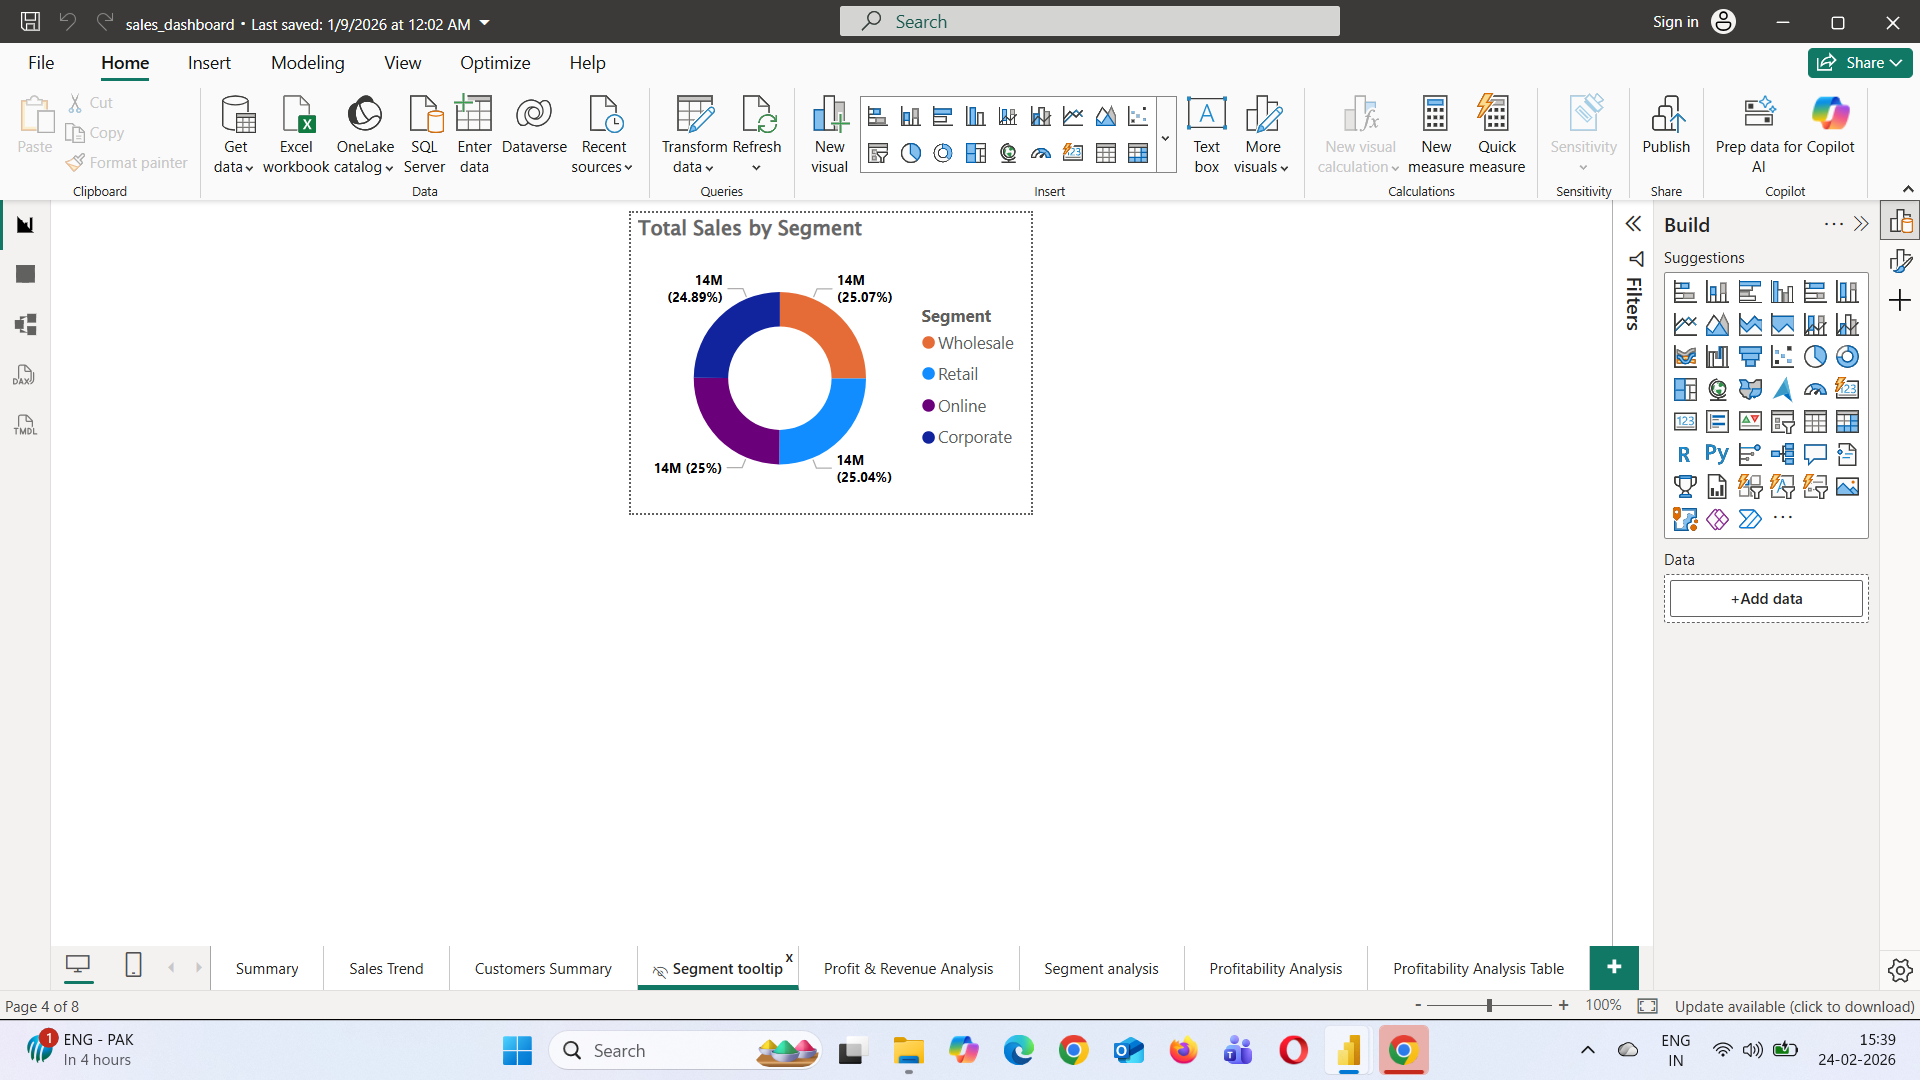

This screenshot's page, from the dashboard's own definition file:
{"tool":"powerbi","page":{"name":"Segment tooltip","canvas":[320,240],"ordinal":3},"visuals":[{"type":"donutChart","fields":{"Category":["SalesData.Segment"],"Y":["_All Measures.Total Sales"]},"box":[0,0,320,240],"z":0}]}

Visuals, with their boxes on the page's 320x240 design canvas (x1, y1, x2, y2). These are canvas units, not pixel positions in the 1920x1080 screenshot, which may show the page scaled, cropped or inside an application window:
donutChart - SalesData.Segment x _All Measures.Total Sales: BBox(0, 0, 320, 240)
